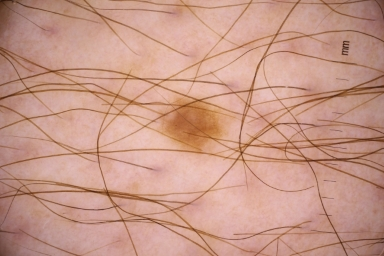nevus: (162, 104, 220, 153)
